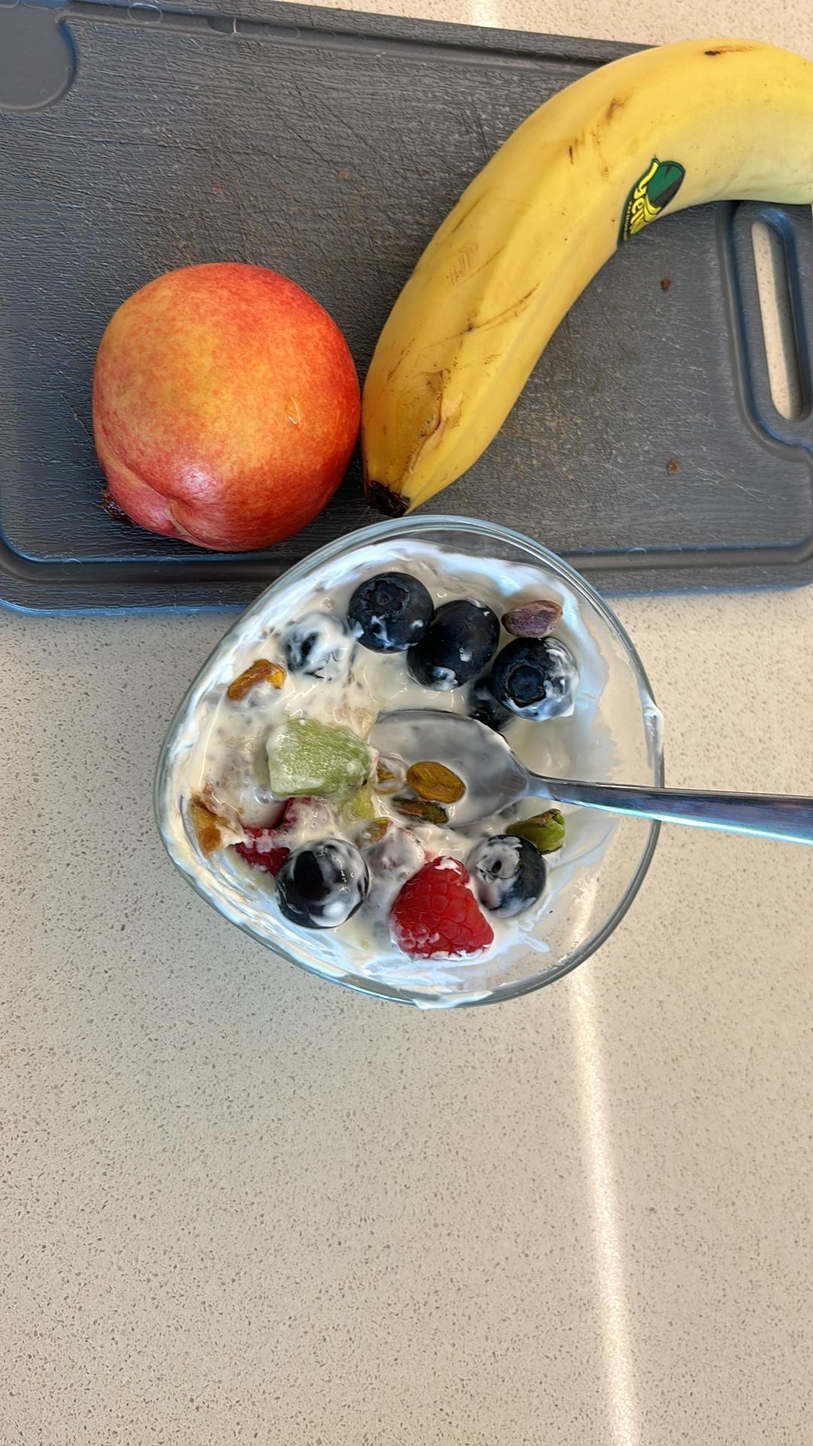apple: (85, 261, 344, 547)
banana: (361, 38, 811, 505)
blueberry: (492, 638, 585, 718), (279, 836, 361, 919), (474, 821, 544, 914), (422, 595, 502, 673), (354, 575, 427, 655)
kiwi: (266, 711, 371, 793)
raspberry: (391, 861, 492, 954)
